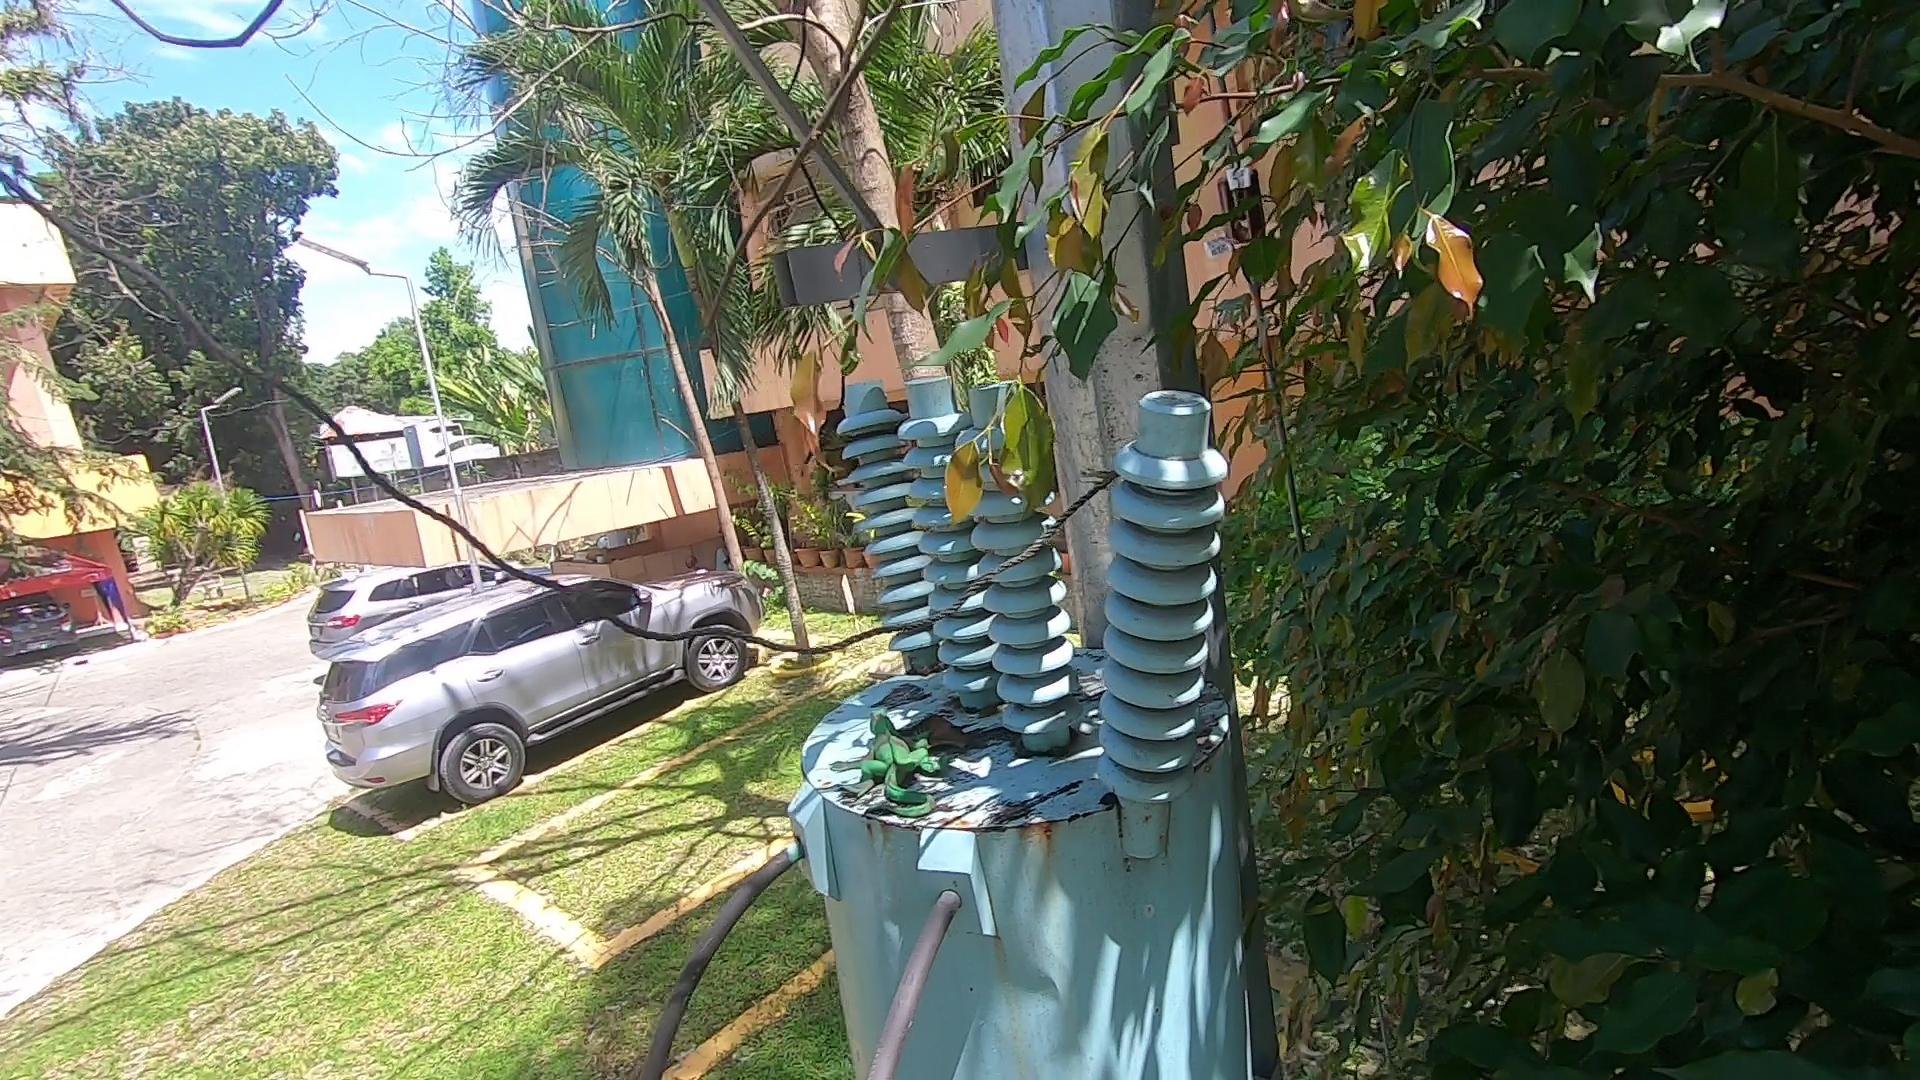leaf: (895, 705, 975, 757)
tree branch: (676, 5, 949, 417)
